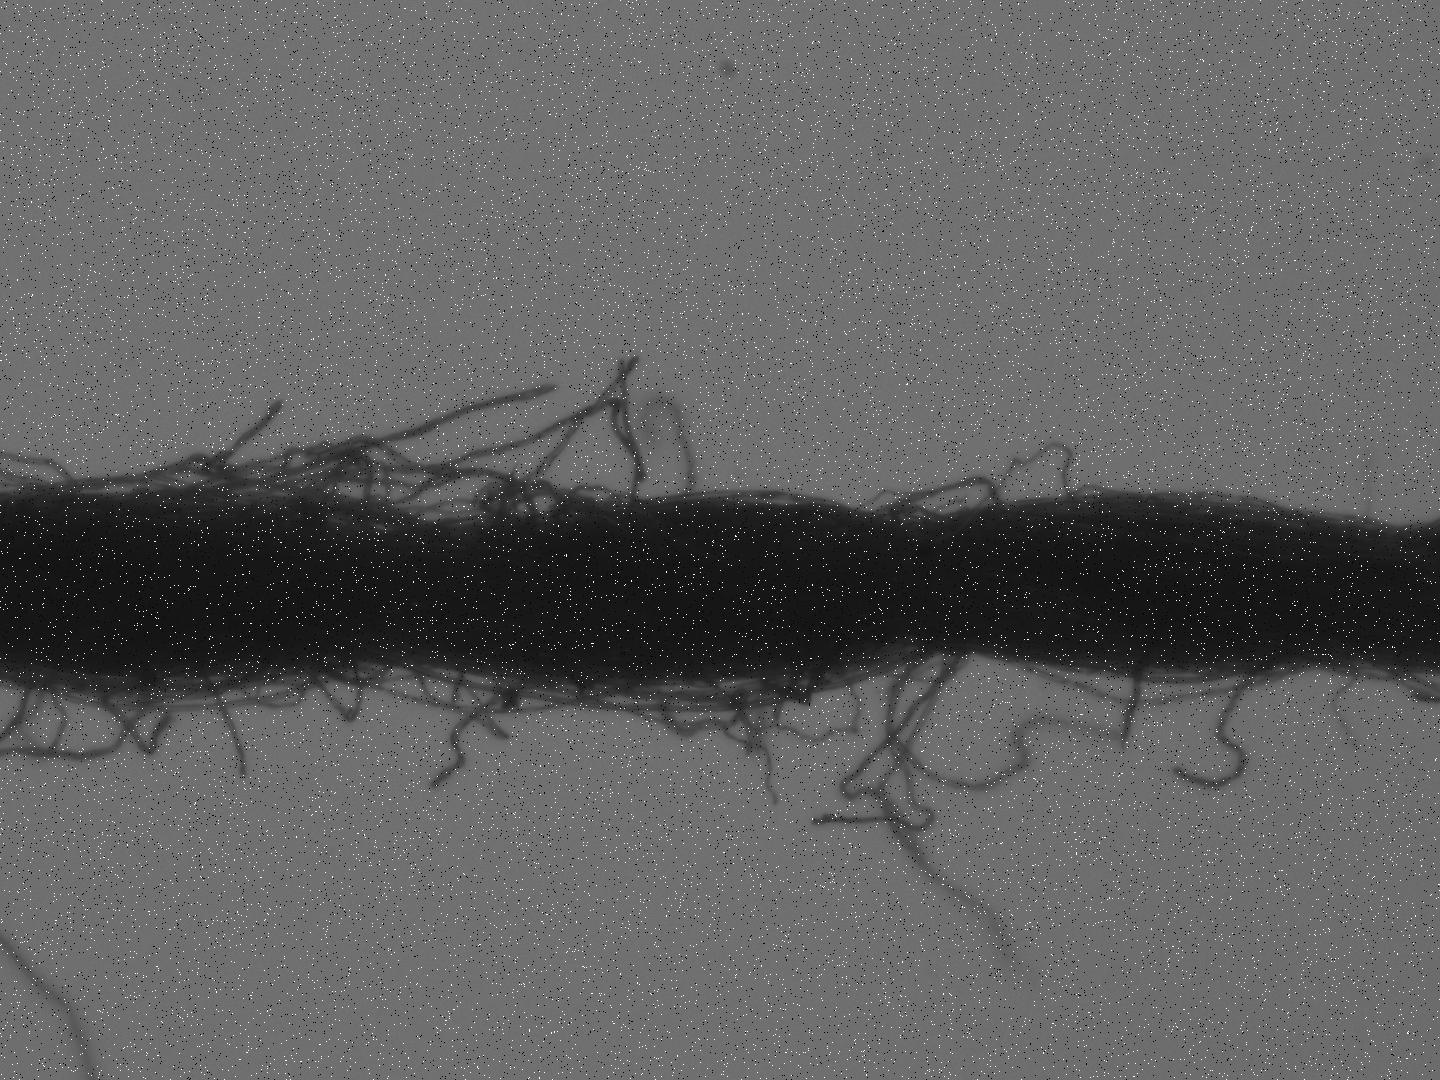loop_fiber: (405, 657, 558, 741), (947, 438, 1082, 529), (32, 456, 248, 511), (387, 462, 550, 533), (255, 446, 380, 530), (766, 652, 870, 746), (859, 474, 1007, 530), (645, 675, 746, 744), (296, 649, 367, 728), (542, 478, 646, 530), (229, 667, 306, 714)
protruding_fiber: (198, 665, 251, 790), (1115, 672, 1141, 757)
